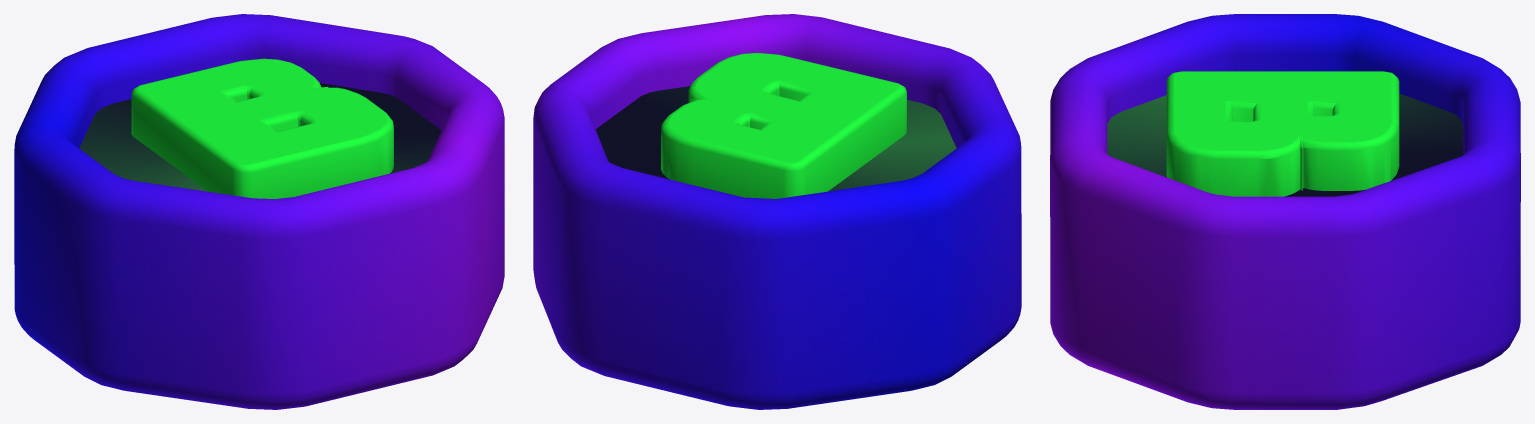
Rendered from Particle-30.dae.
3 renders of one model, left to right at view 1: azimuth 30°, elevation 25°; view 2: azimuth 150°, elevation 25°; view 3: azimuth 270°, elevation 25°, orthographic.
Visible parts, largest first — view 1: Particle; view 2: Particle; view 3: Particle.
Part boxes in pixels (box(x1,y1,x2,y2)): Particle: box(14, 14, 504, 409); Particle: box(533, 14, 1021, 409); Particle: box(1050, 14, 1520, 409).
Bounding box in the file's own units: 0.1279 × 0.0602 × 0.1229.
3 materials, 2 textured.
